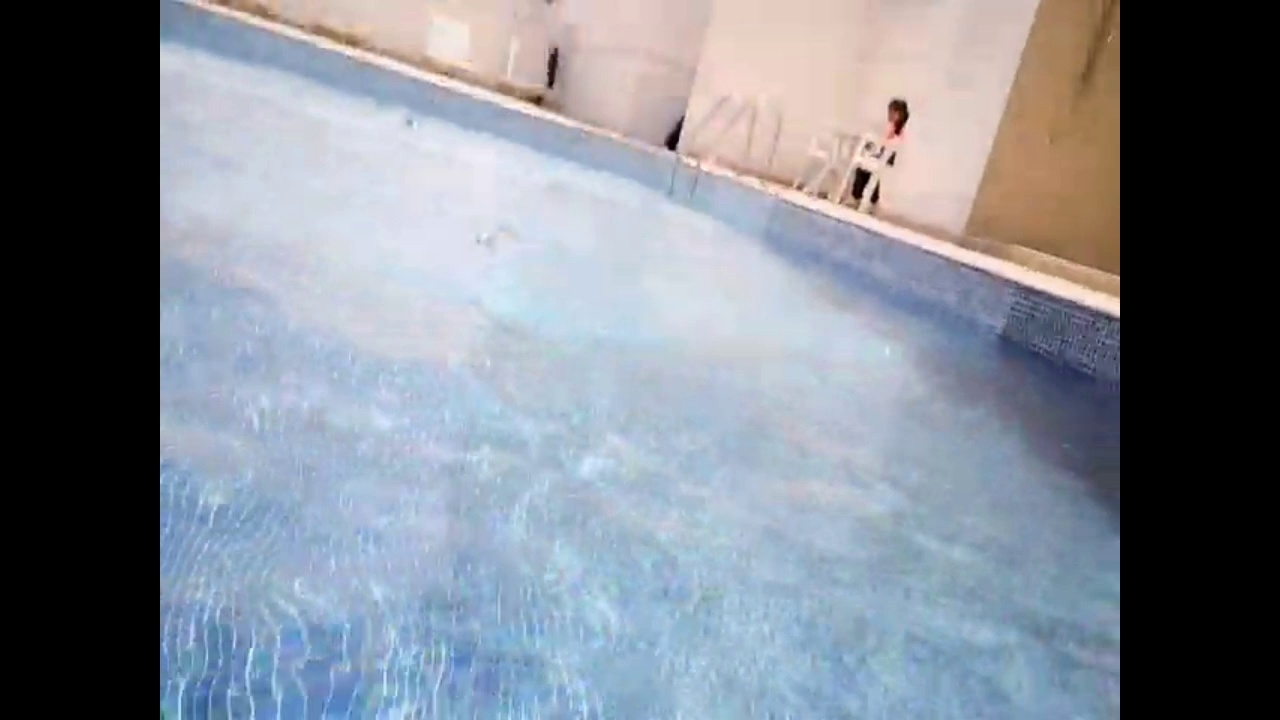debris: (472, 228, 494, 247), (404, 116, 419, 131)
